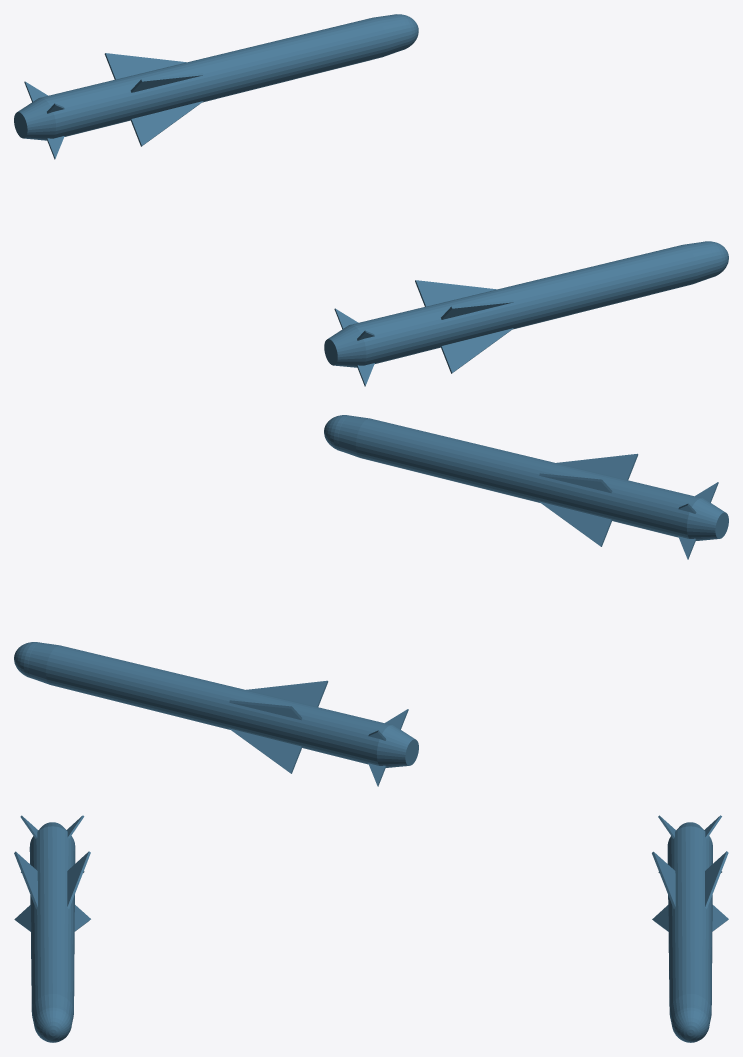
File: asm2df2a12.glb
The picture shows the model from 3 angles, top to bottom: view 1: azimuth 30°, elevation 25°; view 2: azimuth 150°, elevation 25°; view 3: azimuth 270°, elevation 25°; orthographic projection. The views are drawn at different scales.
Parts seen in each view (by area): view 1: 球.007, 球.001; view 2: 球.001, 球.007; view 3: 球.007, 球.001.
Boxes of the visible parts, x1,y1,x2,y2 form: 球.007: (324, 241, 728, 386); 球.001: (14, 14, 418, 159); 球.001: (14, 642, 418, 786); 球.007: (324, 415, 728, 559); 球.007: (14, 815, 90, 1042); 球.001: (652, 815, 728, 1042).
Bounding box in the file's own units: 5.34 × 0.8752 × 8.11.
